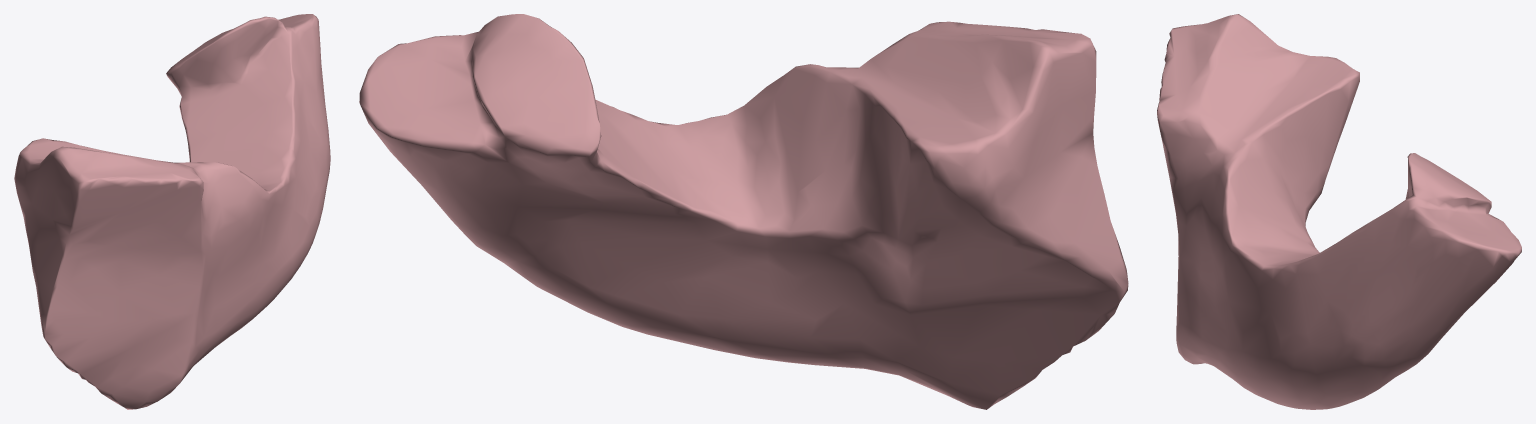
The model's file is fma60991_mm1275.glb.
3 renders of one model, left to right at view 1: azimuth 30°, elevation 25°; view 2: azimuth 150°, elevation 25°; view 3: azimuth 270°, elevation 25°, orthographic. The views are drawn at different scales.
Parts seen in each view (by area): view 1: FMA60991_MM1275; view 2: FMA60991_MM1275; view 3: FMA60991_MM1275.
Part boxes in pixels (x1,y1,x2,y2): FMA60991_MM1275: (14,14,330,409); FMA60991_MM1275: (359,14,1128,409); FMA60991_MM1275: (1157,14,1521,409).
Size of the model in its own units: 0.0259 by 0.0177 by 0.0181.
